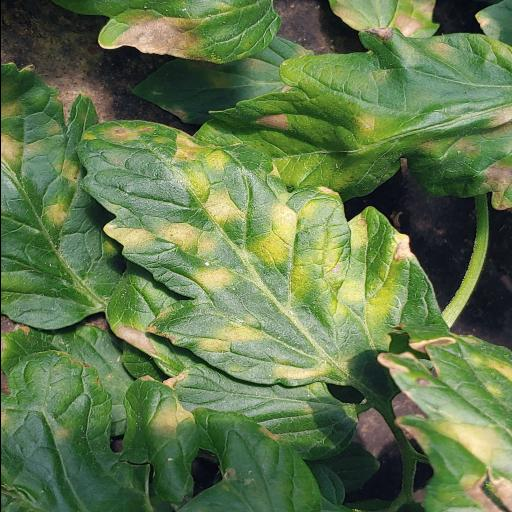disease_tomato: (83, 116, 411, 388), (192, 31, 512, 210), (0, 62, 125, 330)
